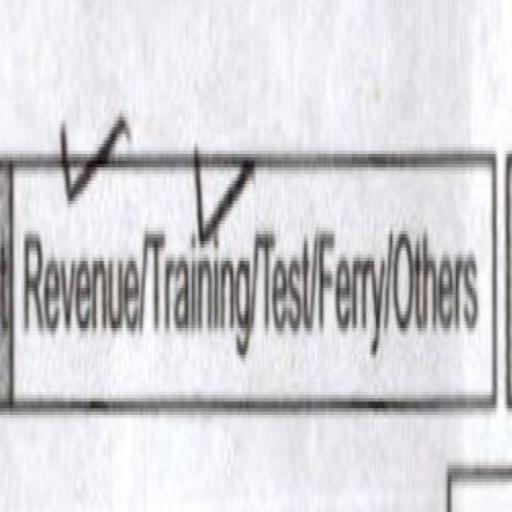check: (22, 88, 144, 409), (146, 94, 255, 423)
